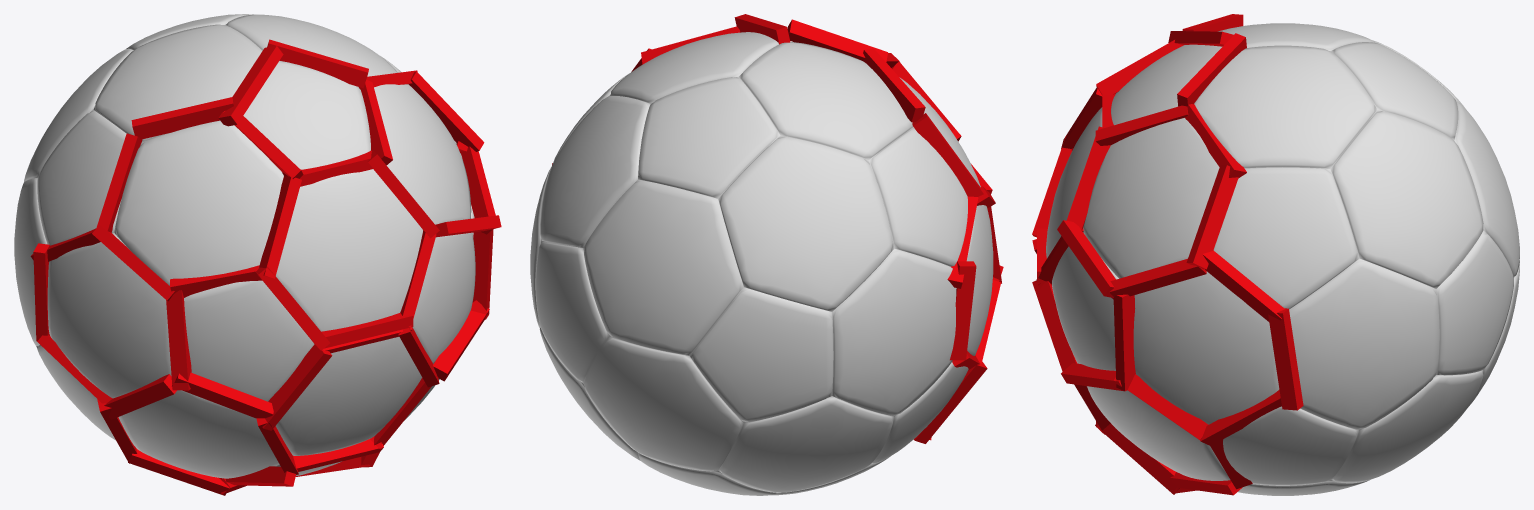
The model's file is Football_Outlined.gltf.
3 views of the same model, side by side, from view 1: azimuth 30°, elevation 25°; view 2: azimuth 150°, elevation 25°; view 3: azimuth 270°, elevation 25° (orthographic). The views are drawn at different scales.
Visible parts, largest first — view 1: Hedra2, Cube.025, Cube.029, Cube.004, Cube.010, Cube.028, Cube.022, Cube.023, Cube.014, Cube.017, Cube, Cube.013 (+23 smaller); view 2: Hedra2, Cube.035, Cube.022, Cube.017, Cube.025, Cube.031, Cube.023, Cube.036, Cube.015, Cube.030, Cube.004; view 3: Hedra2, Cube.014, Cube.039, Cube.038, Cube.018, Cube.013, Cube.012, Cube.023, Cube.021, Cube.037, Cube.002, Cube.008 (+12 smaller).
Boxes of the visible parts, x1,y1,x2,y2 form: Hedra2: [14, 14, 475, 478]; Cube.025: [131, 97, 233, 139]; Cube.029: [172, 372, 273, 418]; Cube.004: [257, 176, 301, 278]; Cube.010: [262, 344, 332, 430]; Cube.028: [166, 290, 191, 390]; Cube.022: [218, 45, 283, 126]; Cube.023: [267, 39, 368, 88]; Cube.014: [409, 71, 484, 151]; Cube.017: [96, 133, 142, 232]; Cube: [321, 313, 413, 348]; Cube.013: [459, 146, 495, 234]; Hedra2: [530, 32, 993, 495]; Cube.035: [950, 261, 976, 360]; Cube.022: [787, 19, 887, 61]; Cube.017: [912, 113, 983, 196]; Cube.025: [863, 48, 925, 122]; Cube.031: [914, 361, 987, 443]; Cube.023: [734, 14, 790, 44]; Cube.036: [947, 196, 978, 288]; Cube.015: [641, 26, 740, 64]; Cube.030: [975, 280, 1001, 363]; Cube.004: [892, 61, 955, 131]; Hedra2: [1046, 23, 1519, 495]; Cube.014: [1186, 165, 1238, 269]; Cube.039: [1268, 308, 1303, 410]; Cube.038: [1202, 250, 1284, 321]; Cube.018: [1113, 294, 1135, 391]; Cube.013: [1109, 258, 1206, 299]; Cube.012: [1057, 220, 1115, 297]; Cube.023: [1177, 33, 1246, 106]; Cube.021: [1114, 374, 1208, 439]; Cube.037: [1200, 389, 1281, 445]; Cube.002: [1066, 126, 1110, 230]; Cube.008: [1032, 280, 1077, 371].
Size of the model in its own units: 3.03 by 2.97 by 2.92.
